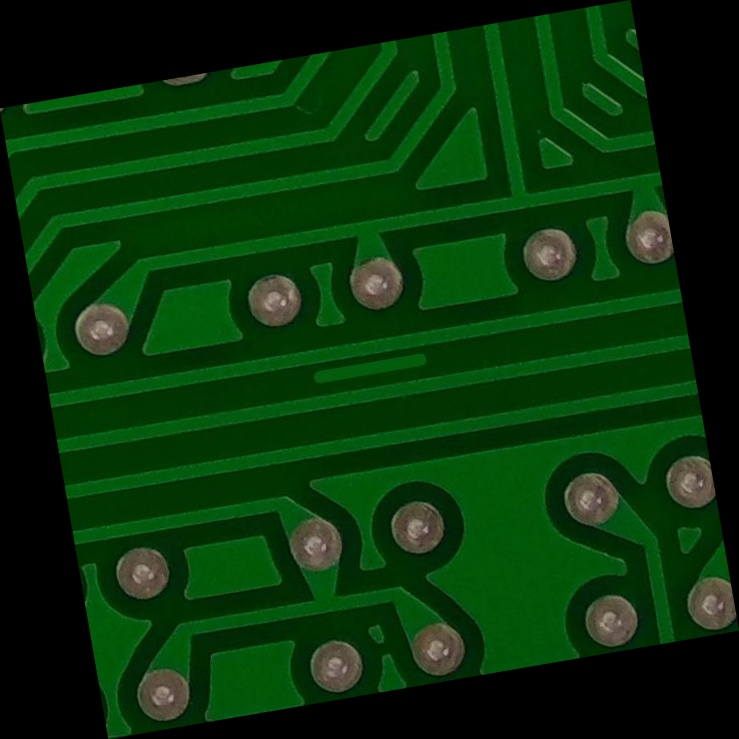spurious_copper: (293, 332, 446, 408)
